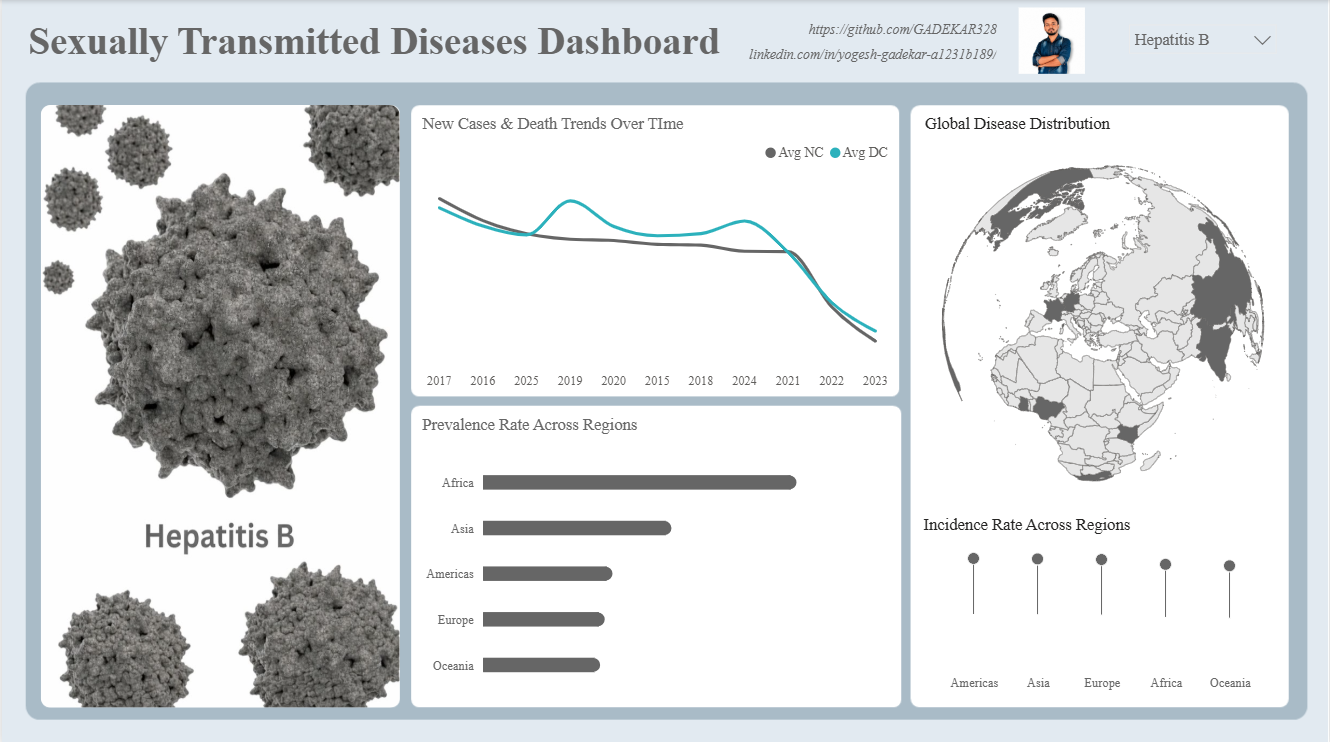

The dashboard page shown, as its layout file describes it:
{"tool":"powerbi","page":{"name":"Page 1","canvas":[1280,720],"ordinal":0},"visuals":[{"type":"slicer","fields":{"Values":["Health Image Dataset.Disease"]},"box":[1077.4,13.3,162.9,55.5],"z":0},{"type":"image","box":[37.4,101.3,346.2,581.5],"z":1000},{"type":"lineChart","title":"New Cases & Death Trends Over TIme","fields":{"Category":["Health Dataset.Year"],"Y":["Avg(Health Dataset.New_Cases)"],"Y2":["Avg(Health Dataset.Deaths)"]},"box":[400.5,109.8,464.5,272.7],"z":2000},{"type":"clusteredBarChart","title":"Prevalence Rate Across Regions","fields":{"Category":["Health Dataset.Region"],"Y":["Avg(Health Dataset.Prevalence_Rate)"]},"box":[400.5,400.5,464.5,282.3],"z":3000},{"type":"shapeMap","title":"Global Disease Distribution","fields":{"Category":["Health Dataset.Country"]},"box":[885.5,109.8,354.7,387.3],"z":3001},{"type":"textbox","box":[20.5,13.3,705.8,55.5],"z":3002},{"type":"clusteredColumnChart","title":"Incidence Rate Across Regions","fields":{"Category":["Health Dataset.Region"],"Y":["Avg(Health Dataset.Incidence_Rate)"]},"box":[884.3,497.1,355.9,177.3],"z":3003},{"type":"image","box":[974.8,7.2,77.2,63.9],"z":3004},{"type":"textbox","box":[714.2,37.4,250.9,31.4],"z":3005},{"type":"textbox","box":[766.1,13.3,199.1,31.4],"z":3006}]}

Visuals, with their boxes in screenshot pixels (x1, y1, x2, y2), scaled from the page's 1280x720 canvas onto the 1330x742 screenshot:
slicer - Health Image Dataset.Disease: Rect(1119, 14, 1289, 71)
image: Rect(39, 104, 399, 704)
"New Cases & Death Trends Over TIme" lineChart: Rect(416, 113, 899, 394)
"Prevalence Rate Across Regions" clusteredBarChart: Rect(416, 413, 899, 704)
"Global Disease Distribution" shapeMap: Rect(920, 113, 1289, 512)
textbox: Rect(21, 14, 755, 71)
"Incidence Rate Across Regions" clusteredColumnChart: Rect(919, 512, 1289, 695)
image: Rect(1013, 7, 1093, 73)
textbox: Rect(742, 39, 1003, 71)
textbox: Rect(796, 14, 1003, 46)
